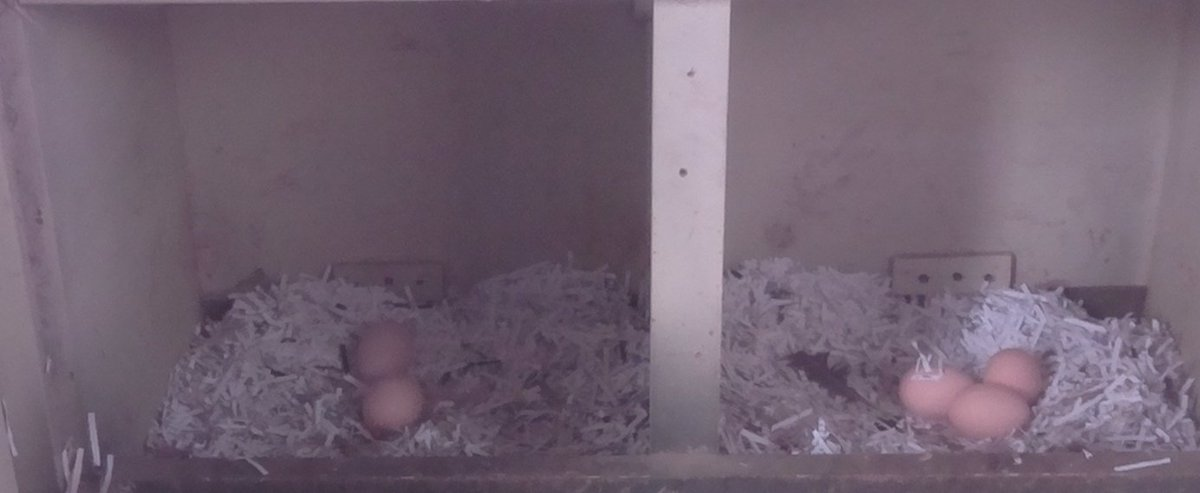egg: (946, 380, 1037, 443), (358, 373, 428, 445), (893, 362, 977, 421), (979, 345, 1051, 410), (343, 320, 420, 380)
